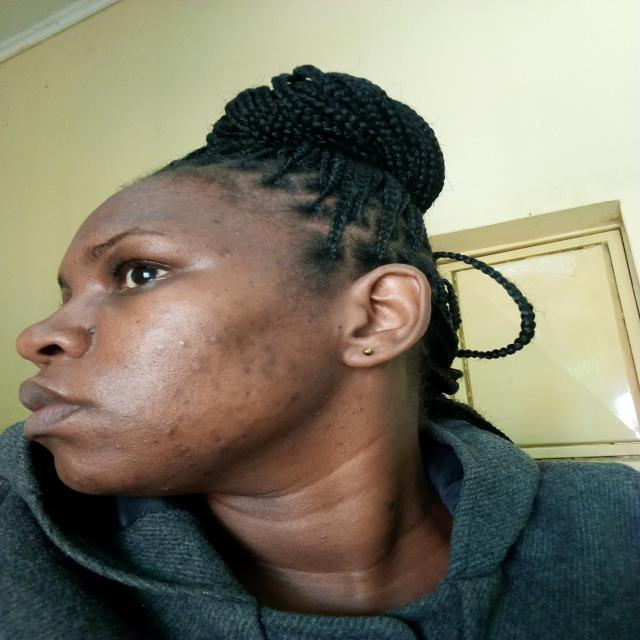acne: (167, 392, 220, 430), (246, 413, 314, 437), (242, 355, 302, 379), (211, 432, 257, 458), (231, 322, 261, 360), (323, 412, 351, 450), (210, 246, 246, 264), (310, 305, 336, 328), (206, 374, 234, 392), (293, 370, 323, 386), (258, 342, 284, 358), (166, 335, 190, 350), (206, 334, 226, 350), (108, 439, 128, 454), (144, 344, 174, 354), (165, 420, 179, 440), (242, 384, 262, 398), (174, 447, 196, 459), (286, 394, 307, 404), (190, 360, 206, 372), (290, 346, 308, 356), (362, 406, 374, 420), (343, 402, 358, 412), (317, 532, 330, 542), (130, 475, 144, 481), (140, 437, 150, 445), (130, 458, 140, 466), (160, 486, 173, 492), (196, 347, 201, 357), (190, 468, 198, 472), (82, 480, 86, 488)
dark circle: (112, 282, 184, 298), (101, 294, 136, 312)
